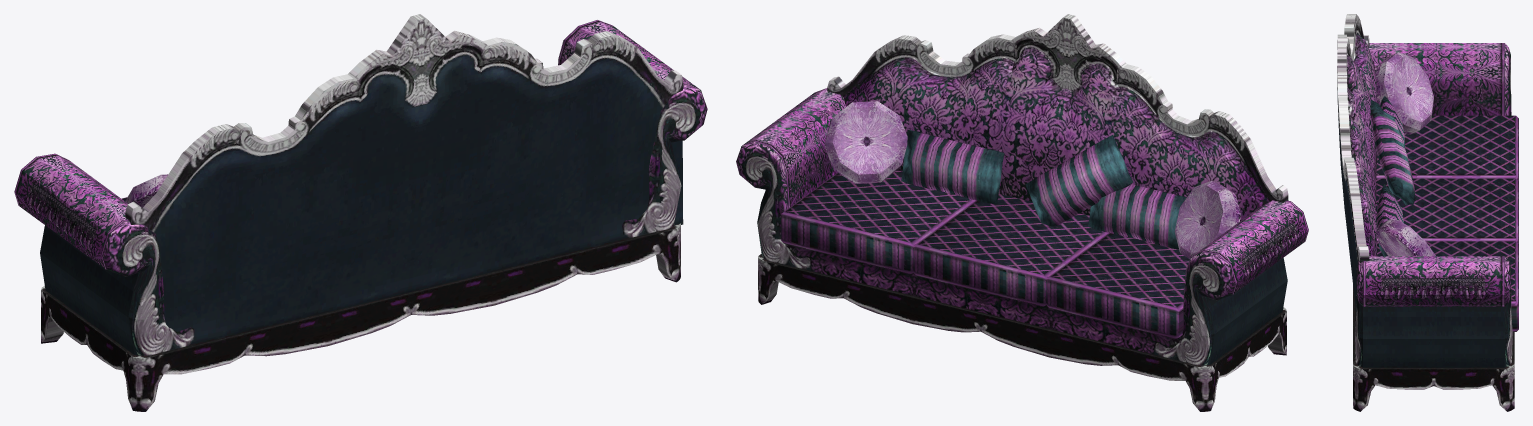
Rendered from furni_0201210_02.FBX.
3 renders of one model, left to right at view 1: azimuth 30°, elevation 25°; view 2: azimuth 150°, elevation 25°; view 3: azimuth 270°, elevation 25°, orthographic. The views are drawn at different scales.
Visible parts, largest first — view 1: furni_0201210_02; view 2: furni_0201210_02; view 3: furni_0201210_02.
Part boxes in pixels (bbox=[...]): furni_0201210_02: bbox=[14, 14, 707, 411]; furni_0201210_02: bbox=[736, 14, 1308, 411]; furni_0201210_02: bbox=[1337, 14, 1518, 411].
Bounding box in the file's own units: 239 × 126 × 77.57.
